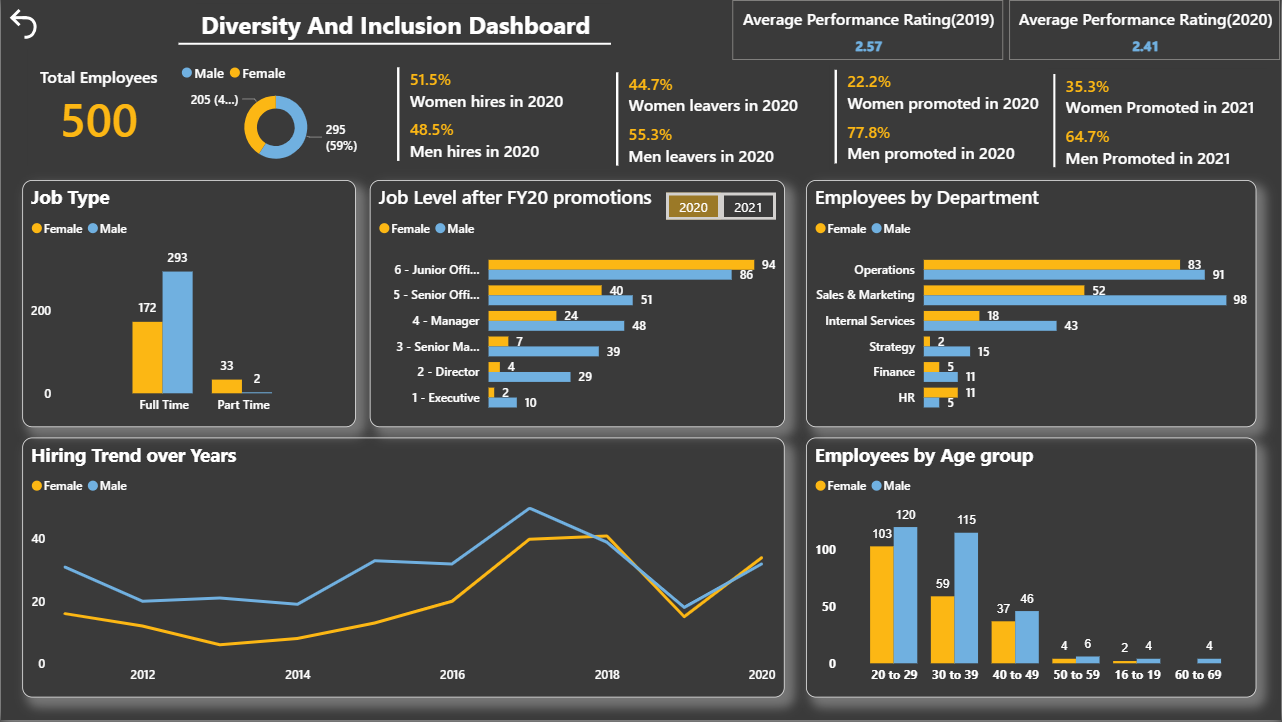

The page's visual inventory and layout, read from the dashboard file:
{"tool":"powerbi","page":{"name":"Home Page","canvas":[1280,720],"ordinal":0},"visuals":[{"type":"donutChart","fields":{"Y":["Measure Table.Total Employees"],"Category":["Pharma Group AG.Gender"]},"box":[175,52.5,200,120],"z":0},{"type":"textbox","box":[195,3.8,415,46.2],"z":1000},{"type":"lineChart","title":"Hiring Trend over Years","fields":{"Series":["Pharma Group AG.Gender"],"Y":["Measure Table.Total Employees"],"Category":["Pharma Group AG.Last hire date.Variation.Date Hierarchy.Year"]},"box":[21.2,437.5,762.5,260],"z":2000},{"type":"clusteredColumnChart","title":"Employees by Age group ","fields":{"Category":["Pharma Group AG.Age group"],"Series":["Pharma Group AG.Gender"],"Y":["CountNonNull(Pharma Group AG.Employee ID)"]},"box":[805,437.5,450,260],"z":3000},{"type":"clusteredColumnChart","title":"Job Type","fields":{"Category":["Pharma Group AG.Time type"],"Y":["Measure Table.Total Employees"],"Series":["Pharma Group AG.Gender"]},"box":[21.2,180,333.8,247.5],"z":4000},{"type":"clusteredBarChart","title":" Job Level after FY20 promotions ","fields":{"Category":["Pharma Group AG.Job Level after FY20 promotions"],"Series":["Pharma Group AG.Gender"],"Y":["Measure Table.Total Employees"]},"box":[368.8,180,415,247.5],"z":5000},{"type":"clusteredBarChart","title":"Employees by Department ","fields":{"Series":["Pharma Group AG.Gender"],"Y":["Measure Table.Total Employees"],"Category":["Pharma Group AG.Last Department in FY20"]},"box":[805,180,450,247.5],"z":6000},{"type":"multiRowCard","fields":{"Values":["Measure Table.% Women hires in 2020","Measure Table.% Men hires in 2020"]},"box":[391.2,62.5,218.8,107.5],"z":7000},{"type":"multiRowCard","fields":{"Values":["Measure Table.% Women leavers in 2020","Measure Table.% Men leavers in 2020"]},"box":[610,67.5,218.8,103.8],"z":8000},{"type":"multiRowCard","fields":{"Values":["Measure Table.% Women promoted in 2020","Measure Table.% Men promoted in 2020"]},"box":[828.8,65,218.8,105],"z":9000},{"type":"cardVisual","fields":{"Data":["Measure Table.Total Employees"]},"box":[21.2,43.8,153.8,127.5],"z":10000},{"type":"multiRowCard","fields":{"Values":["Measure Table.% Women Promoted in 2021","Measure Table.% Men Promoted in 2021"]},"box":[1047.5,68.8,218.8,103.8],"z":11000},{"type":"cardVisual","fields":{"Data":["Measure Table.Average Performance Rating(2019)","Measure Table.Average Performance Rating(2020)"]},"box":[731.2,0,548.8,60],"z":12000},{"type":"shape","box":[177.5,35,432.5,17.5],"z":13000},{"type":"actionButton","box":[2.5,3.8,42.5,40],"z":13001},{"type":"actionButton","box":[720,192.5,55,27.5],"z":13003},{"type":"actionButton","box":[665,192.5,55,27.5],"z":13004}]}

Visuals, with their boxes in screenshot pixels (x1, y1, x2, y2), scaled from the page's 1280x720 canvas onto the 1282x722 screenshot:
donutChart - Measure Table.Total Employees x Pharma Group AG.Gender: box(175, 53, 376, 173)
textbox: box(195, 4, 611, 50)
"Hiring Trend over Years" lineChart: box(21, 439, 785, 699)
"Employees by Age group " clusteredColumnChart: box(806, 439, 1257, 699)
"Job Type" clusteredColumnChart: box(21, 180, 356, 429)
" Job Level after FY20 promotions " clusteredBarChart: box(369, 180, 785, 429)
"Employees by Department " clusteredBarChart: box(806, 180, 1257, 429)
multiRowCard - Measure Table.% Women hires in 2020 x Measure Table.% Men hires in 2020: box(392, 63, 611, 170)
multiRowCard - Measure Table.% Women leavers in 2020 x Measure Table.% Men leavers in 2020: box(611, 68, 830, 172)
multiRowCard - Measure Table.% Women promoted in 2020 x Measure Table.% Men promoted in 2020: box(830, 65, 1049, 170)
cardVisual - Measure Table.Total Employees: box(21, 44, 175, 172)
multiRowCard - Measure Table.% Women Promoted in 2021 x Measure Table.% Men Promoted in 2021: box(1049, 69, 1268, 173)
cardVisual - Measure Table.Average Performance Rating(2019) x Measure Table.Average Performance Rating(2020): box(732, 0, 1281, 60)
shape: box(178, 35, 611, 53)
actionButton: box(3, 4, 45, 44)
actionButton: box(721, 193, 776, 221)
actionButton: box(666, 193, 721, 221)
